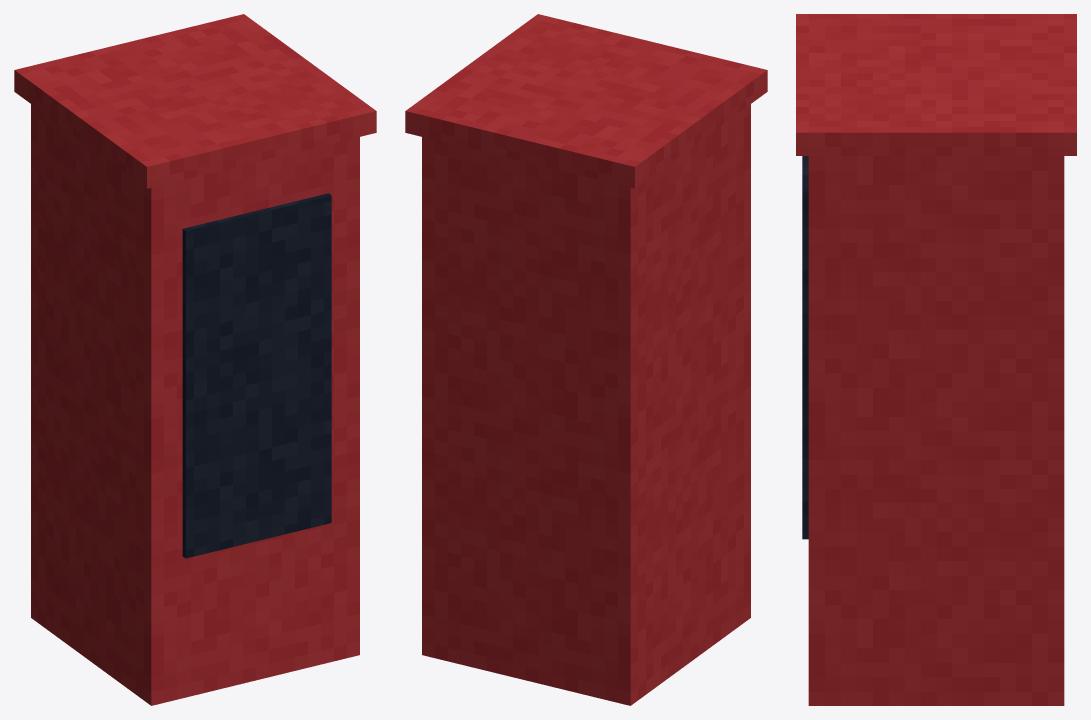
File: env_phone_box.glb
3 renders of one model, left to right at view 1: azimuth 30°, elevation 25°; view 2: azimuth 150°, elevation 25°; view 3: azimuth 270°, elevation 25°, orthographic. The views are drawn at different scales.
Parts seen in each view (by area): view 1: env_phone_box; view 2: env_phone_box; view 3: env_phone_box.
Boxes of the visible parts, x1,y1,x2,y2 form: env_phone_box: [14, 14, 376, 705]; env_phone_box: [405, 14, 767, 705]; env_phone_box: [796, 14, 1076, 705].
Size of the model in its own units: 1.1 by 2.5 by 1.1.
Materials: 2 (2 with a texture image).
